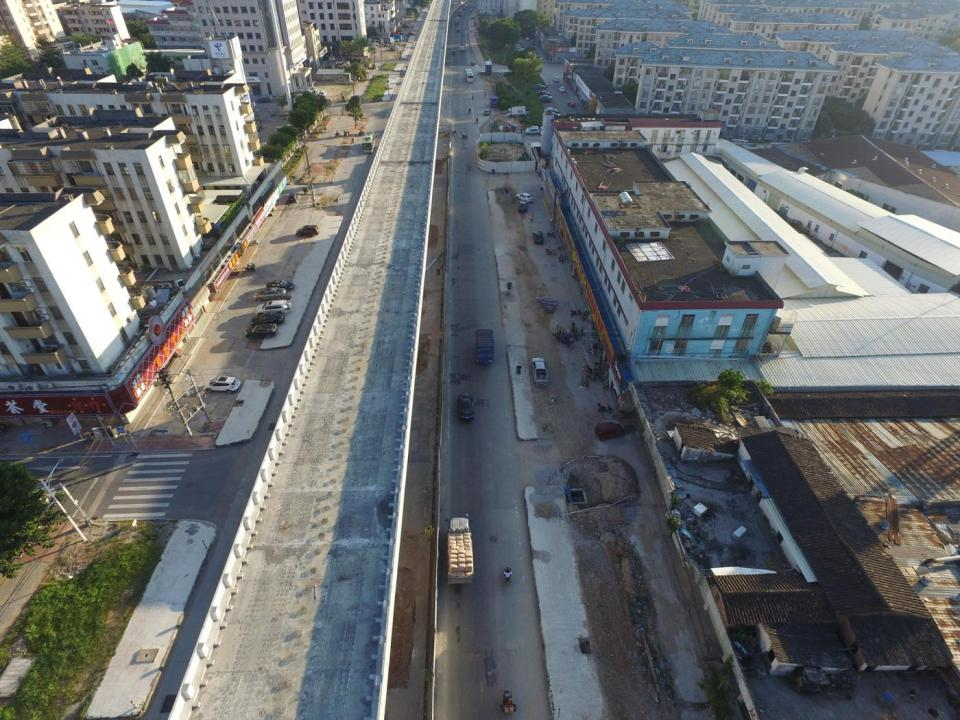bus: (360, 131, 376, 154), (463, 69, 474, 83)
car: (204, 374, 242, 393), (255, 298, 294, 315), (594, 422, 625, 441), (244, 323, 278, 340), (456, 391, 474, 422), (254, 286, 286, 300), (250, 313, 284, 325), (265, 279, 295, 290), (295, 223, 319, 236), (516, 192, 534, 203), (532, 230, 544, 244), (288, 192, 301, 203), (524, 127, 539, 136), (517, 200, 528, 212), (544, 107, 558, 114), (544, 109, 560, 115), (548, 111, 561, 118), (526, 126, 538, 133), (538, 90, 550, 97), (533, 83, 546, 89), (540, 94, 552, 100), (539, 96, 551, 102), (484, 108, 492, 116), (515, 46, 523, 52), (514, 43, 522, 49), (558, 86, 564, 92), (568, 99, 573, 106), (553, 77, 559, 82), (452, 49, 455, 54)
truck: (444, 514, 476, 589), (474, 328, 495, 366), (531, 356, 548, 386), (506, 106, 526, 117), (484, 60, 494, 75), (489, 96, 498, 108), (460, 43, 466, 52)
